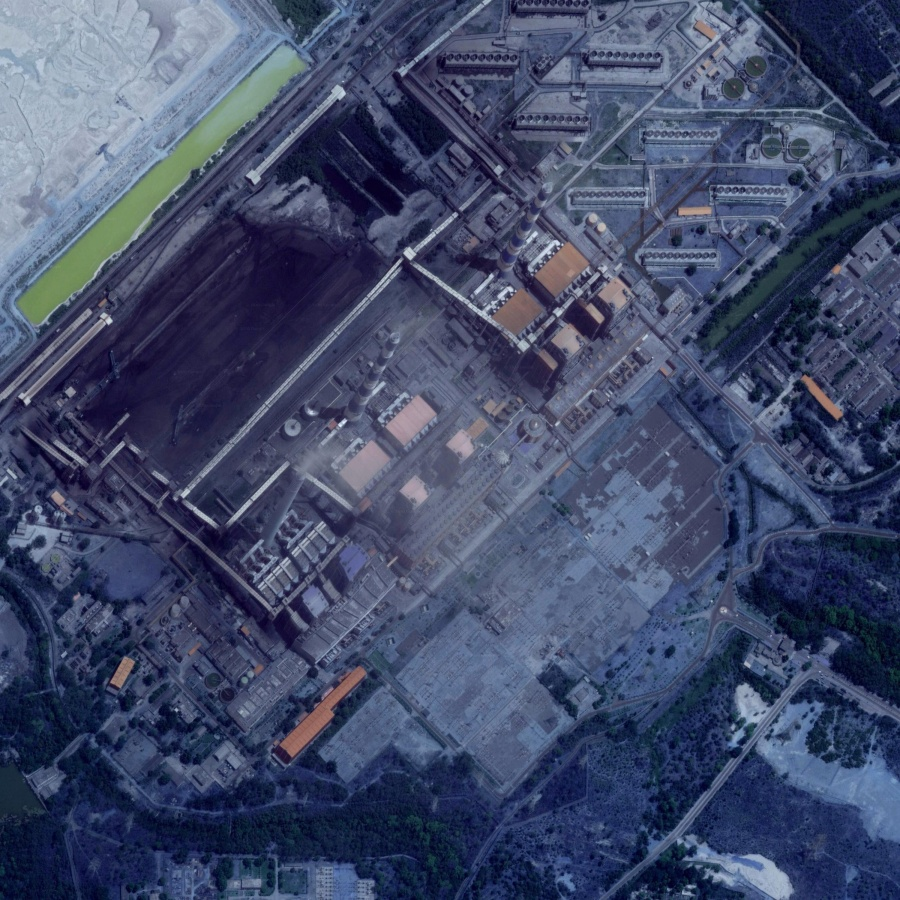PowerPlant: (5, 48, 530, 555)
